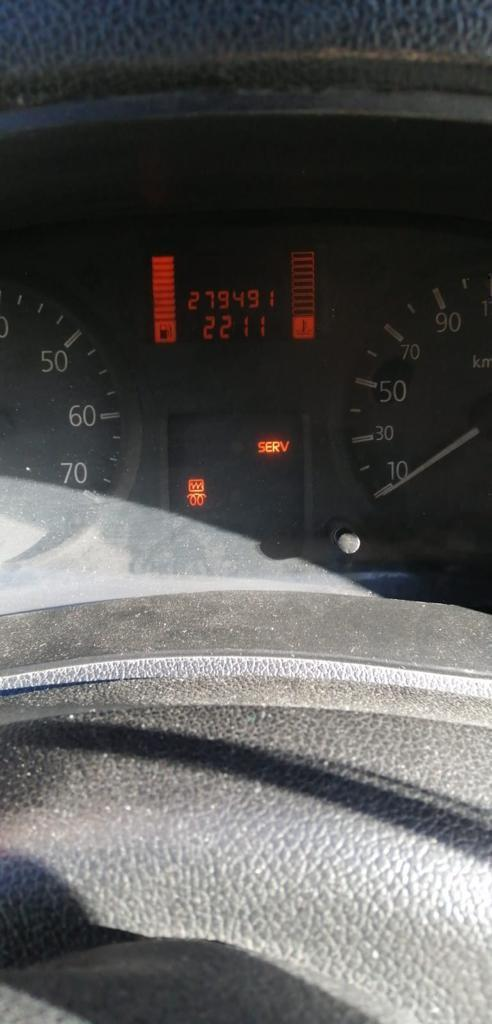1: (243, 314, 249, 337), (259, 314, 265, 336), (269, 289, 274, 307)
2: (219, 314, 233, 338), (202, 314, 215, 339), (187, 291, 199, 309)
4: (232, 289, 244, 308)
7: (204, 290, 214, 308)
9: (247, 289, 258, 307), (217, 290, 228, 308)
odometer: (147, 251, 322, 350)
